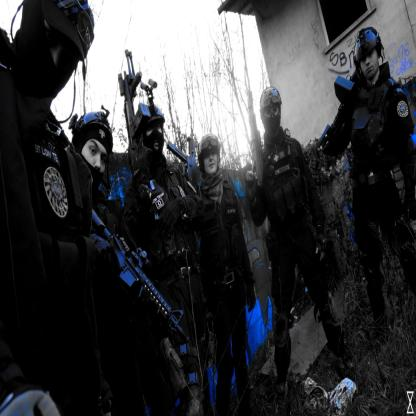Helmet: (350, 25, 390, 96), (69, 108, 118, 162), (258, 86, 286, 131), (200, 137, 219, 178)
